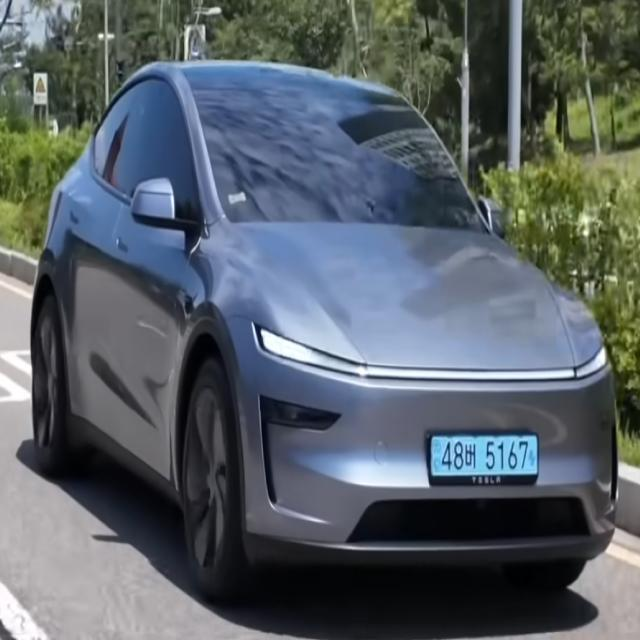car: (413, 419, 559, 504)
carev: (426, 432, 443, 483), (527, 431, 540, 480)
